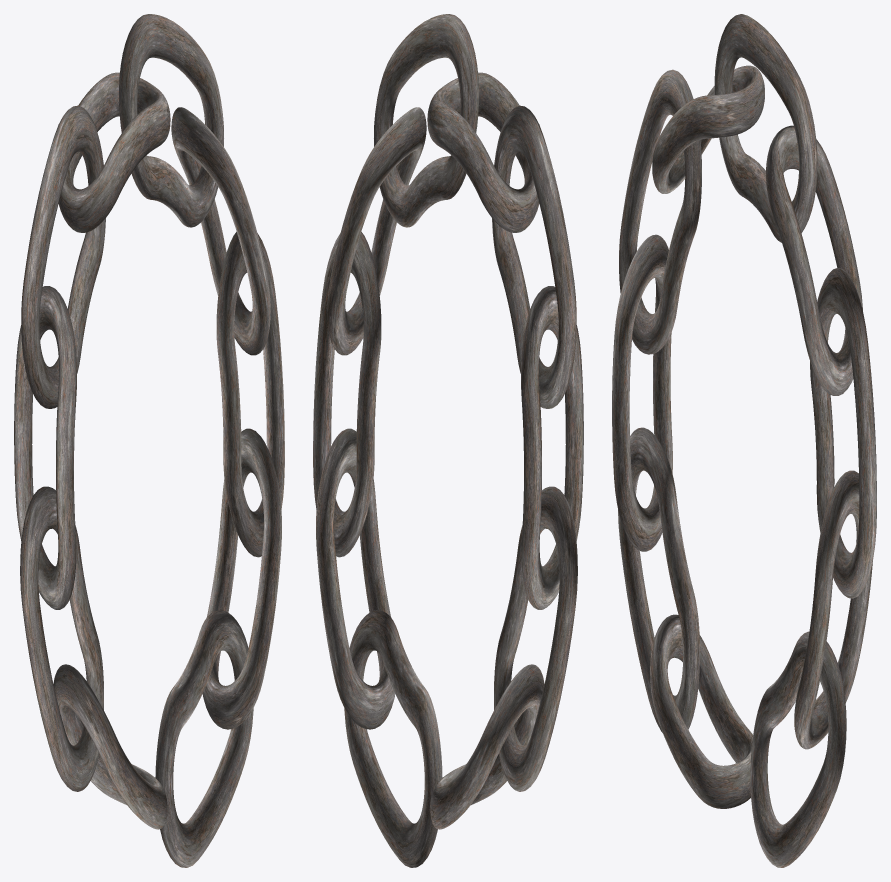
Rendered from chain.fbx.
The picture shows the model from 3 angles, left to right: view 1: azimuth 30°, elevation 25°; view 2: azimuth 150°, elevation 25°; view 3: azimuth 330°, elevation 25°; orthographic projection. The views are drawn at different scales.
Visible parts, largest first — view 1: Sweep_9_Mat_1; view 2: Sweep_9_Mat_1; view 3: Sweep_9_Mat_1.
Part boxes in pixels (<box>): Sweep_9_Mat_1: <box>14,14,284,867</box>; Sweep_9_Mat_1: <box>313,14,583,867</box>; Sweep_9_Mat_1: <box>612,14,876,867</box>.
Size of the model in its own units: 128 by 407 by 46.46.
